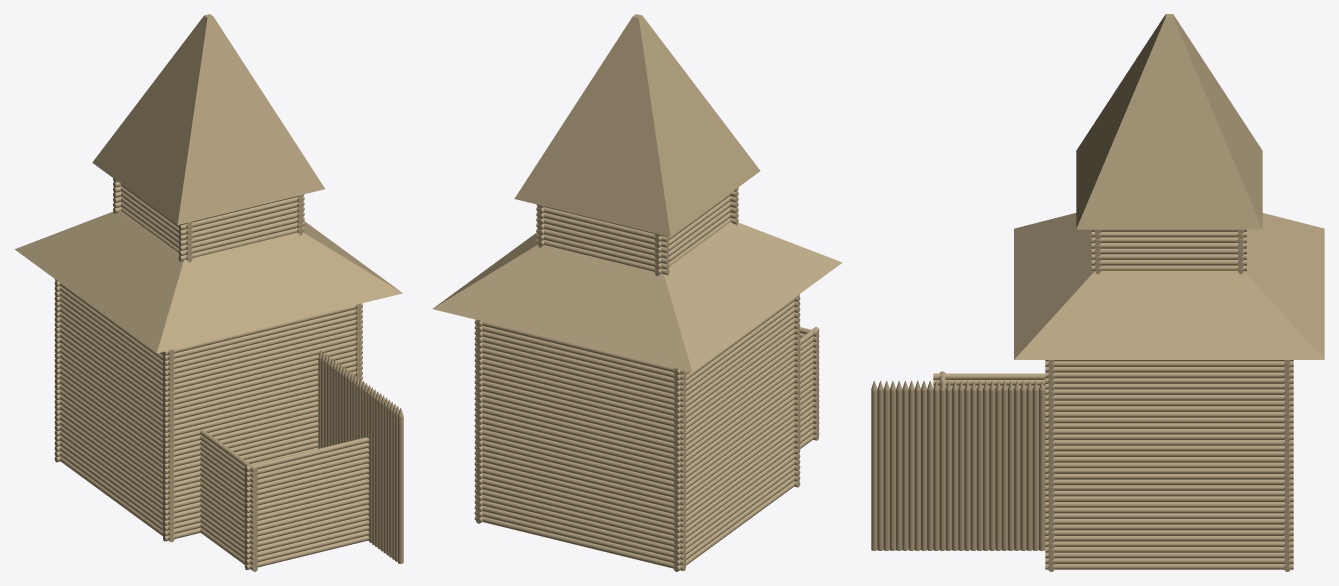
File: big_grad.glb
3 views of the same model, side by side, from view 1: azimuth 30°, elevation 25°; view 2: azimuth 150°, elevation 25°; view 3: azimuth 270°, elevation 25° (orthographic). The views are drawn at different scales.
Parts seen in each view (by area): view 1: Куб.002; view 2: Куб.002; view 3: Куб.002.
Part boxes in pixels (x1=…): Куб.002: x1=15, y1=14, x2=403, y2=571; Куб.002: x1=432, y1=14, x2=842, y2=571; Куб.002: x1=871, y1=14, x2=1324, y2=571.
Bounding box in the file's own units: 10 × 17.9 × 14.6.
